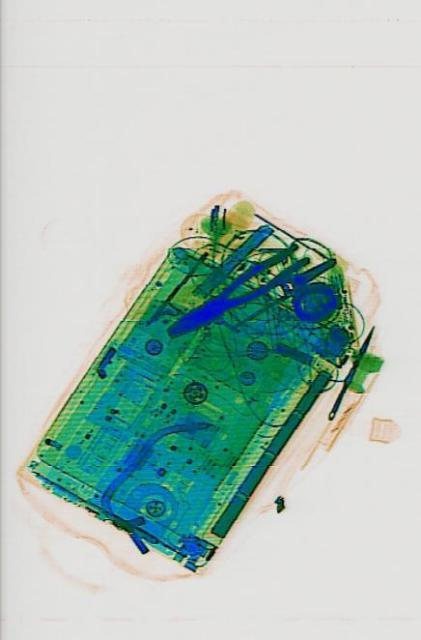Pliers: (162, 232, 309, 348)
